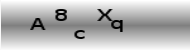8: (53, 7, 68, 22)
A: (28, 17, 46, 32)
X: (95, 7, 113, 22)
c: (72, 29, 86, 41)
q: (110, 19, 124, 33)
